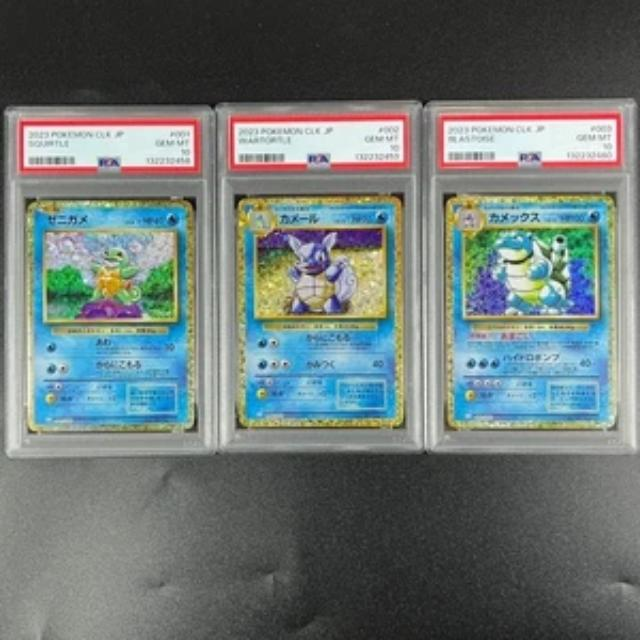Card: (19, 196, 201, 437), (442, 191, 623, 431), (233, 191, 410, 434)
Name: (484, 205, 545, 228), (272, 208, 325, 228), (40, 210, 95, 228)
